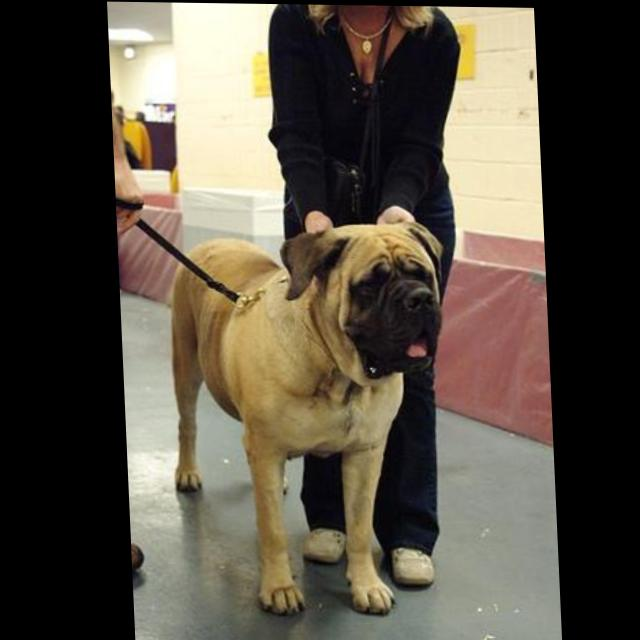bullmastiff: (159, 213, 454, 618)
person: (263, 5, 480, 588), (107, 3, 155, 588)
